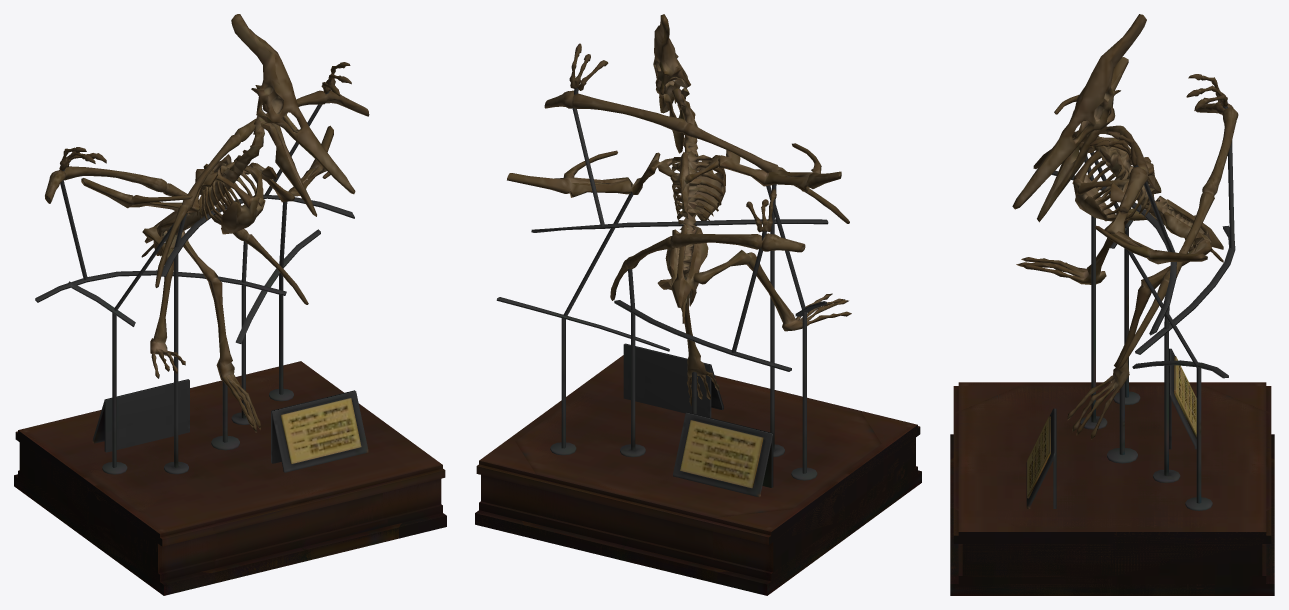
File: fossil-ptera.glb
The picture shows the model from 3 angles, left to right: view 1: azimuth 30°, elevation 25°; view 2: azimuth 150°, elevation 25°; view 3: azimuth 270°, elevation 25°; orthographic projection. The views are drawn at different scales.
Parts seen in each view (by area): view 1: mFossilBaseMiddle, mFossilBaseEnd (×2), mFtrFossilPteranodonA, mWingPanel (×3), mFtrFossilPteranodonC, mFtrFossilPteranodonB; view 2: mFossilBaseEnd (×2), mFossilBaseMiddle, mFtrFossilPteranodonA, mFtrFossilPteranodonB, mWingPanel (×3), mFtrFossilPteranodonC; view 3: mFossilBaseMiddle, mFossilBaseEnd (×2), mFtrFossilPteranodonA, mFtrFossilPteranodonC, mWingPanel (×3), mFtrFossilPteranodonB.
Part boxes in pixels (<box>): mFossilBaseMiddle: <box>14,201,446,595</box>; mFossilBaseEnd (×2): <box>14,91,444,595</box>; mFtrFossilPteranodonA: <box>81,14,355,432</box>; mWingPanel (×3): <box>35,194,354,343</box>; mFtrFossilPteranodonC: <box>45,147,308,304</box>; mFtrFossilPteranodonB: <box>155,62,369,287</box>; mFossilBaseEnd (×2): <box>475,87,918,593</box>; mFossilBaseMiddle: <box>475,185,921,595</box>; mFtrFossilPteranodonA: <box>507,14,851,405</box>; mFtrFossilPteranodonB: <box>544,43,849,223</box>; mWingPanel (×3): <box>496,219,828,371</box>; mFtrFossilPteranodonC: <box>610,189,805,300</box>; mFossilBaseMiddle: <box>950,152,1274,595</box>; mFossilBaseEnd (×2): <box>950,104,1274,595</box>; mFtrFossilPteranodonA: <box>1012,14,1223,439</box>; mFtrFossilPteranodonC: <box>1118,74,1238,368</box>; mWingPanel (×3): <box>1051,170,1235,378</box>; mFtrFossilPteranodonB: <box>1033,125,1148,214</box>.
Size of the model in its own units: 20.09 by 32.29 by 18.33.
Materials: 9 (9 with a texture image).
